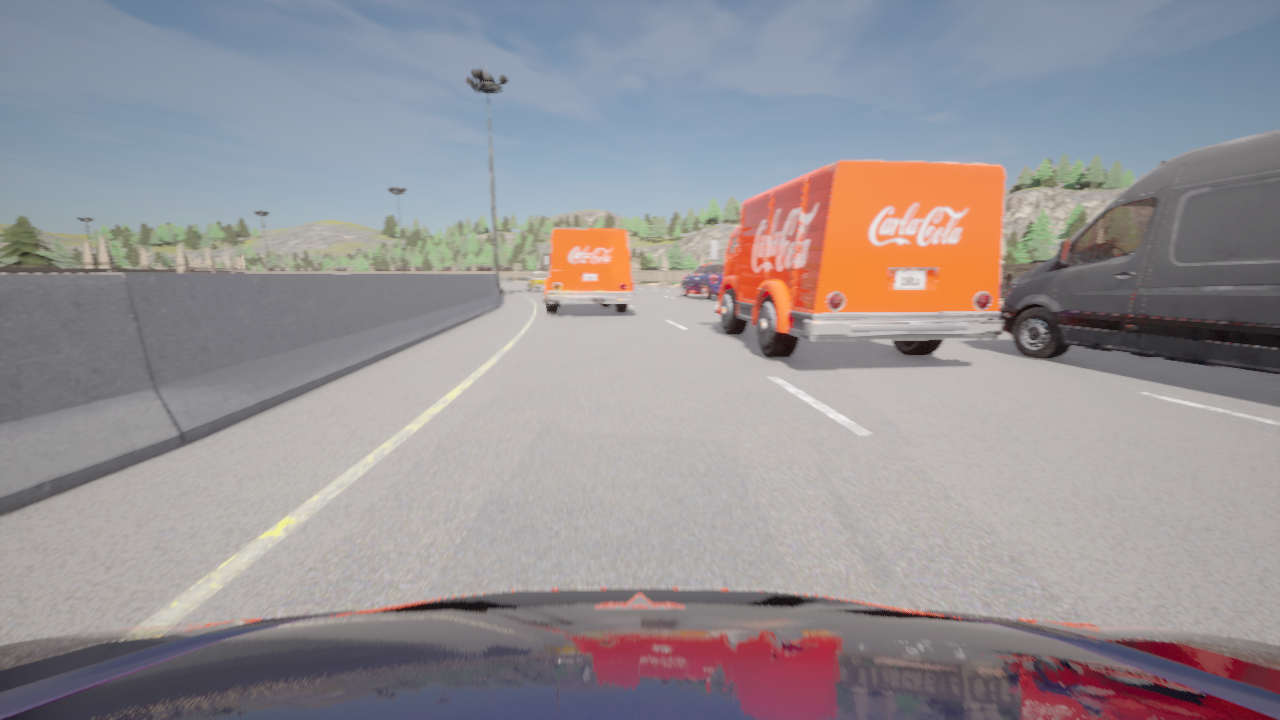cyclist: (0, 588, 1279, 719), (999, 130, 1279, 375), (709, 160, 1005, 358), (543, 228, 634, 313), (680, 263, 724, 300), (528, 271, 548, 292), (631, 277, 634, 294)
